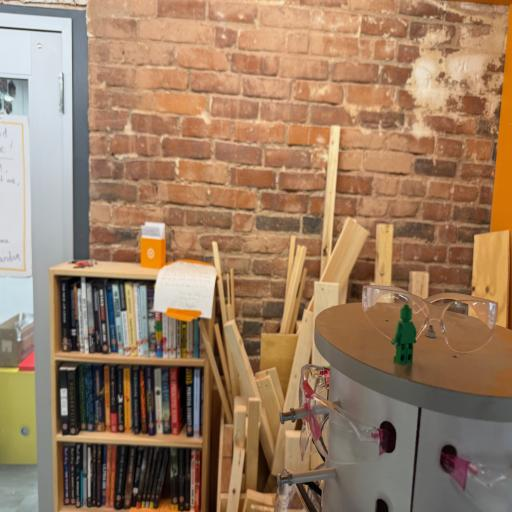Lego-Dude: (392, 304, 416, 364)
